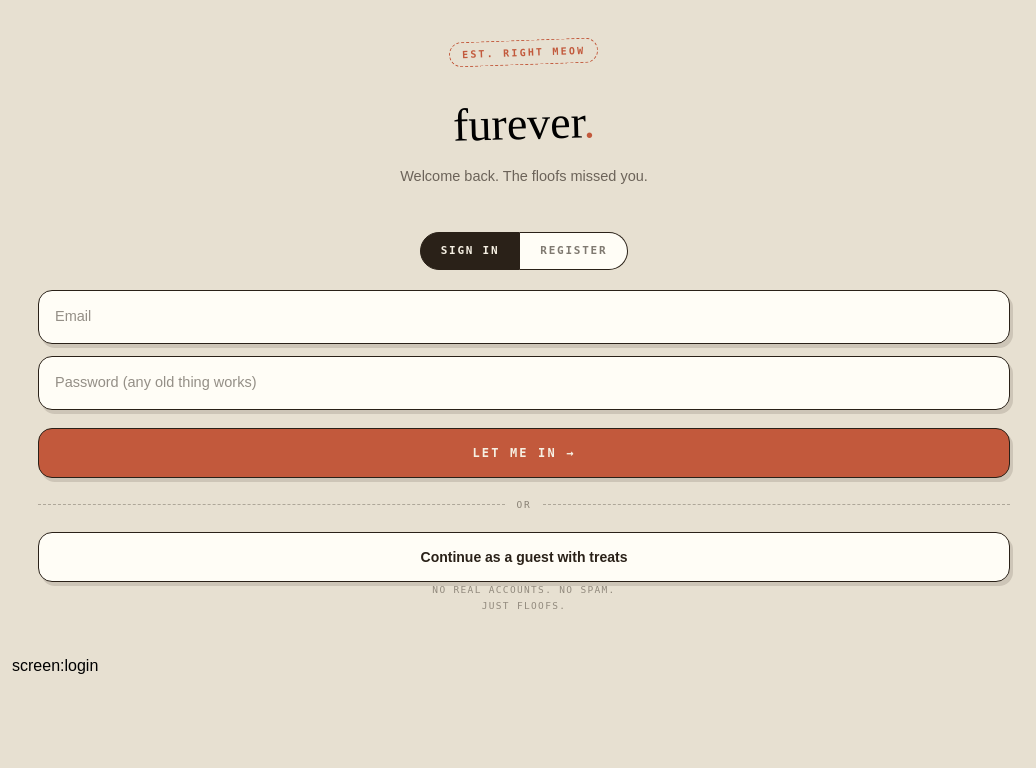
Login › submitting navigates to onboarding
Click the button "LET ME IN →" at coordinates (524, 453), box x1=38 y1=428 x2=1010 y2=478
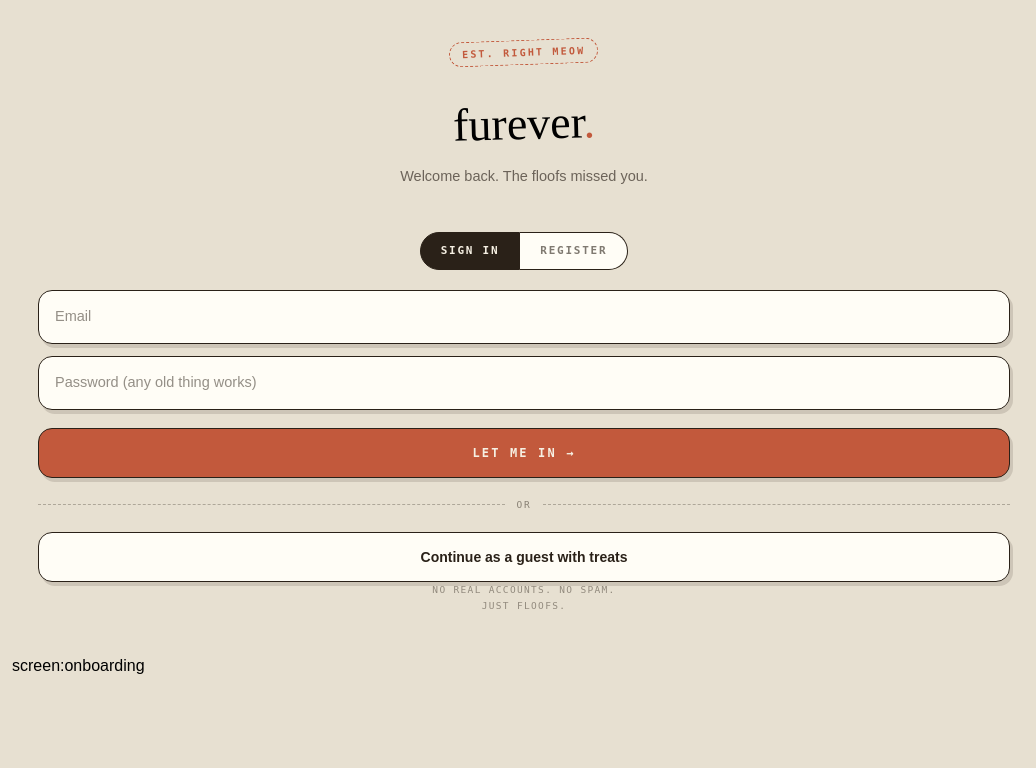
expect the text "screen:onboarding" is shown: met, box x1=12 y1=657 x2=144 y2=674
